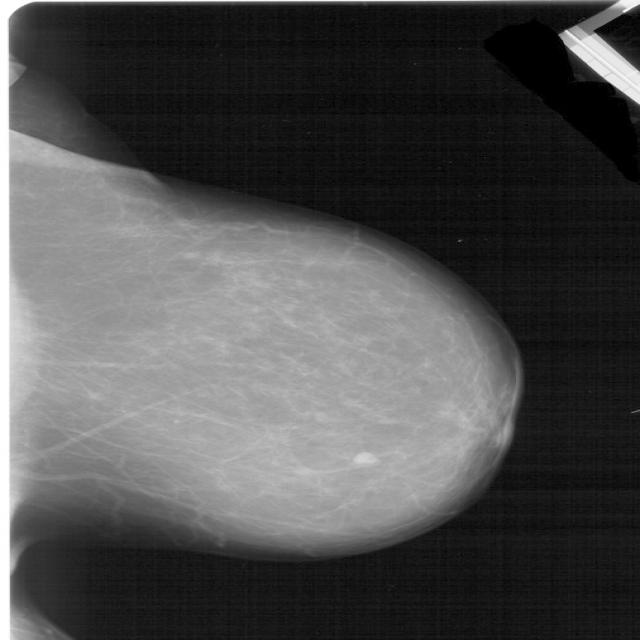tumour: (349, 449, 378, 463)
